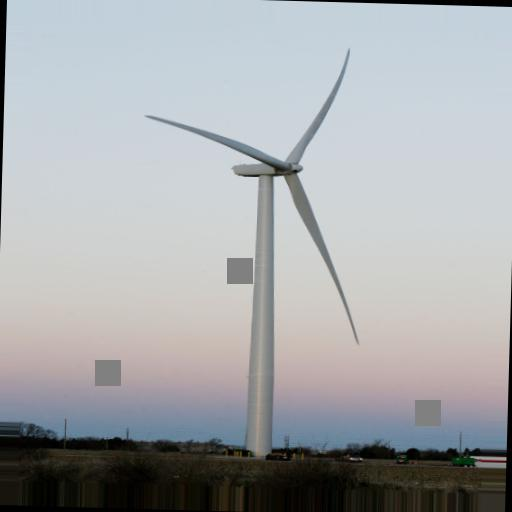wind turbine: (141, 47, 365, 455)
